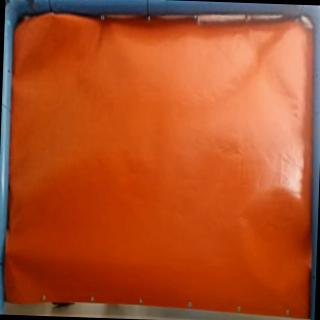Hit-hRxx: (8, 243, 26, 260)
